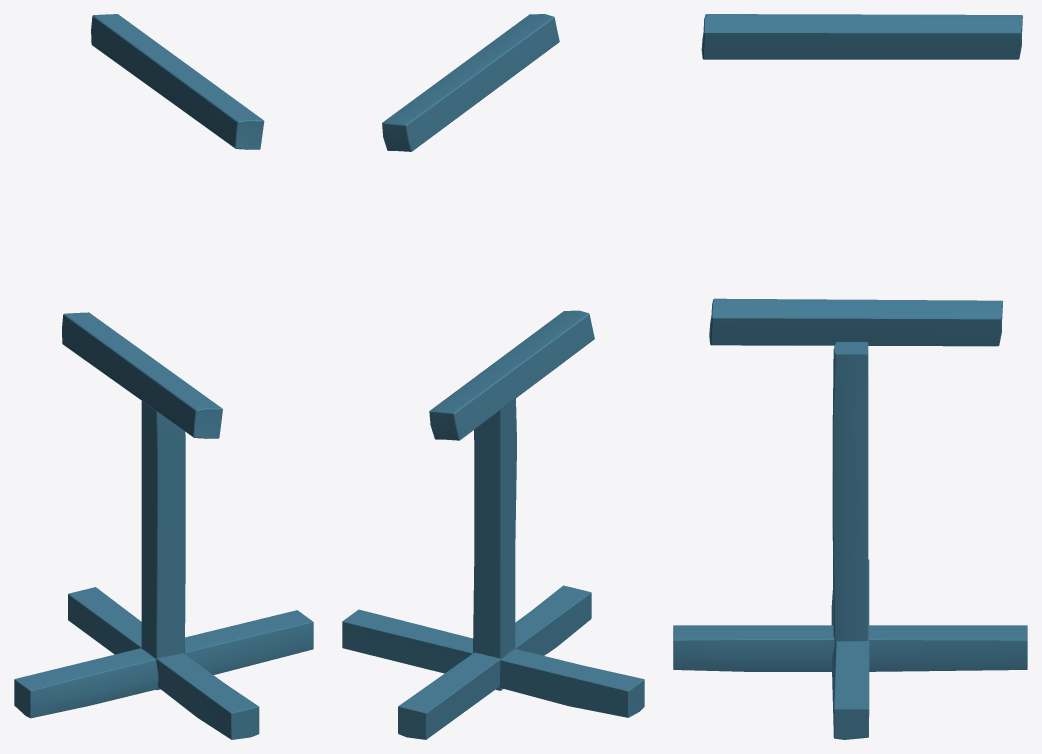
Rendered from Gallows_02B_Lod0.fbx.
3 renders of one model, left to right at view 1: azimuth 30°, elevation 25°; view 2: azimuth 150°, elevation 25°; view 3: azimuth 270°, elevation 25°, orthographic. The views are drawn at different scales.
Parts seen in each view (by area): view 1: Gallows_02B_Lod0; view 2: Gallows_02B_Lod0; view 3: Gallows_02B_Lod0.
Boxes of the visible parts, left/top/right/bottom form: Gallows_02B_Lod0: left=14, top=14, right=313, bottom=739; Gallows_02B_Lod0: left=342, top=14, right=644, bottom=739; Gallows_02B_Lod0: left=673, top=14, right=1027, bottom=739.
Bounding box in the file's own units: 106 × 217 × 106.
